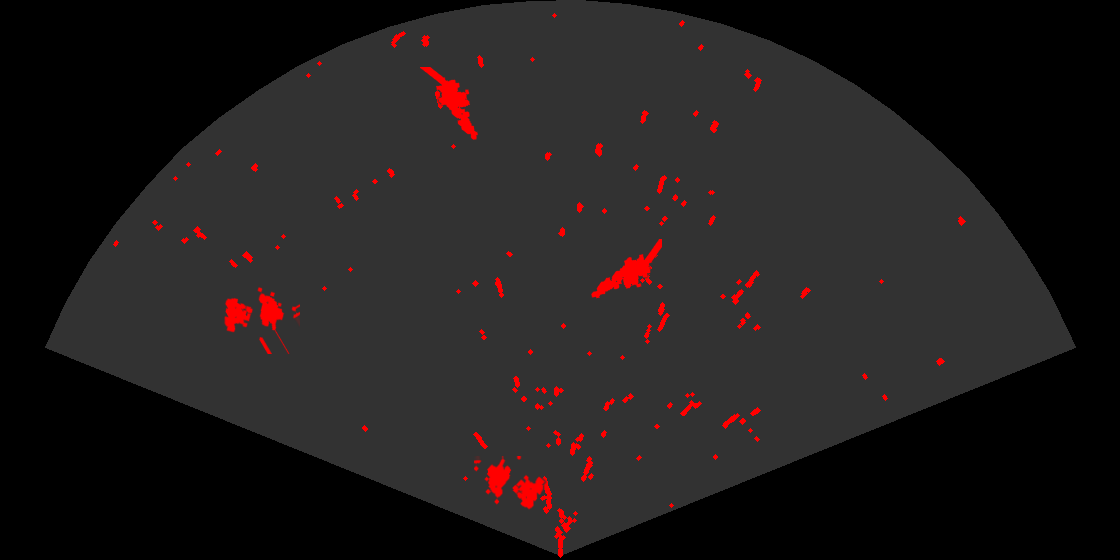cage: (222, 285, 300, 354), (474, 456, 547, 511)
frogman: (420, 67, 480, 141), (590, 239, 662, 300)
